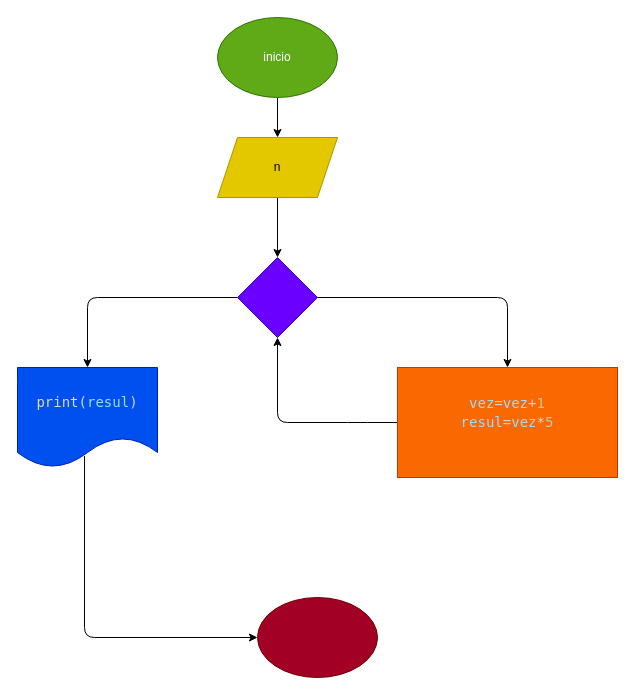
This 635x695 diagram has some shape labels left out. Here are the shapes that lost their labels. From the top down, the centre of each, then its label:
(277,297): vez<n
(317,637): fin
